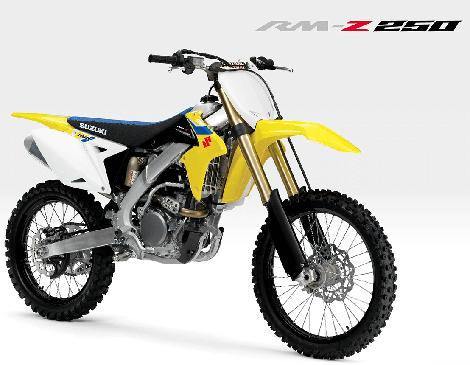motorbike: (5, 52, 407, 358)
